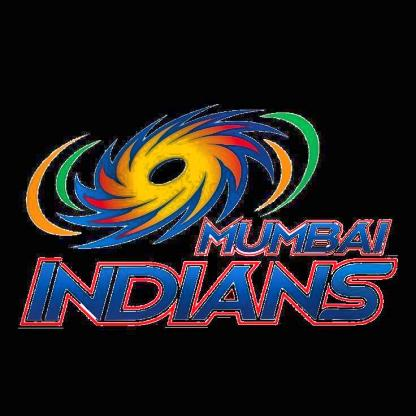Mumbai Indians: (20, 101, 401, 335)
